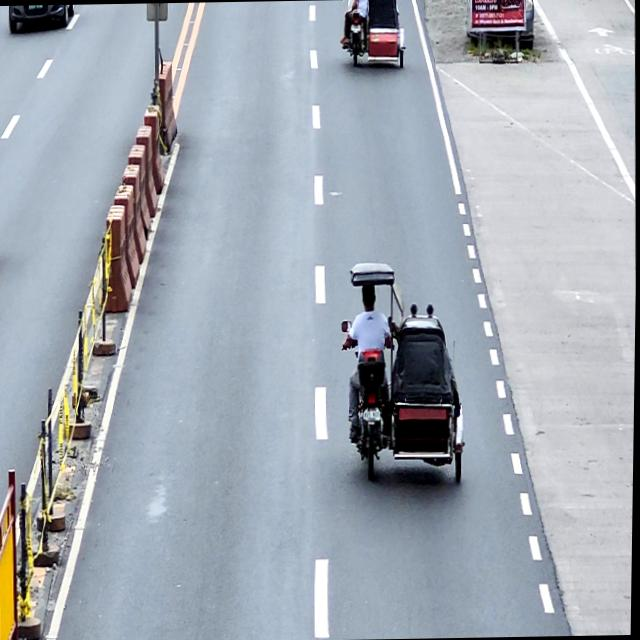Car: (8, 4, 75, 34)
License-Plate: (363, 408, 381, 420), (350, 24, 360, 31)
Tricycle: (339, 262, 468, 484), (345, 0, 405, 68)
